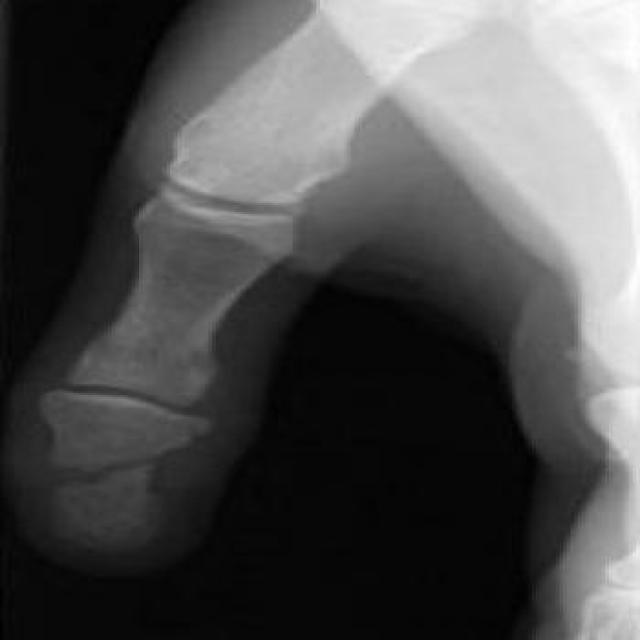Fracture: (19, 440, 210, 500)
